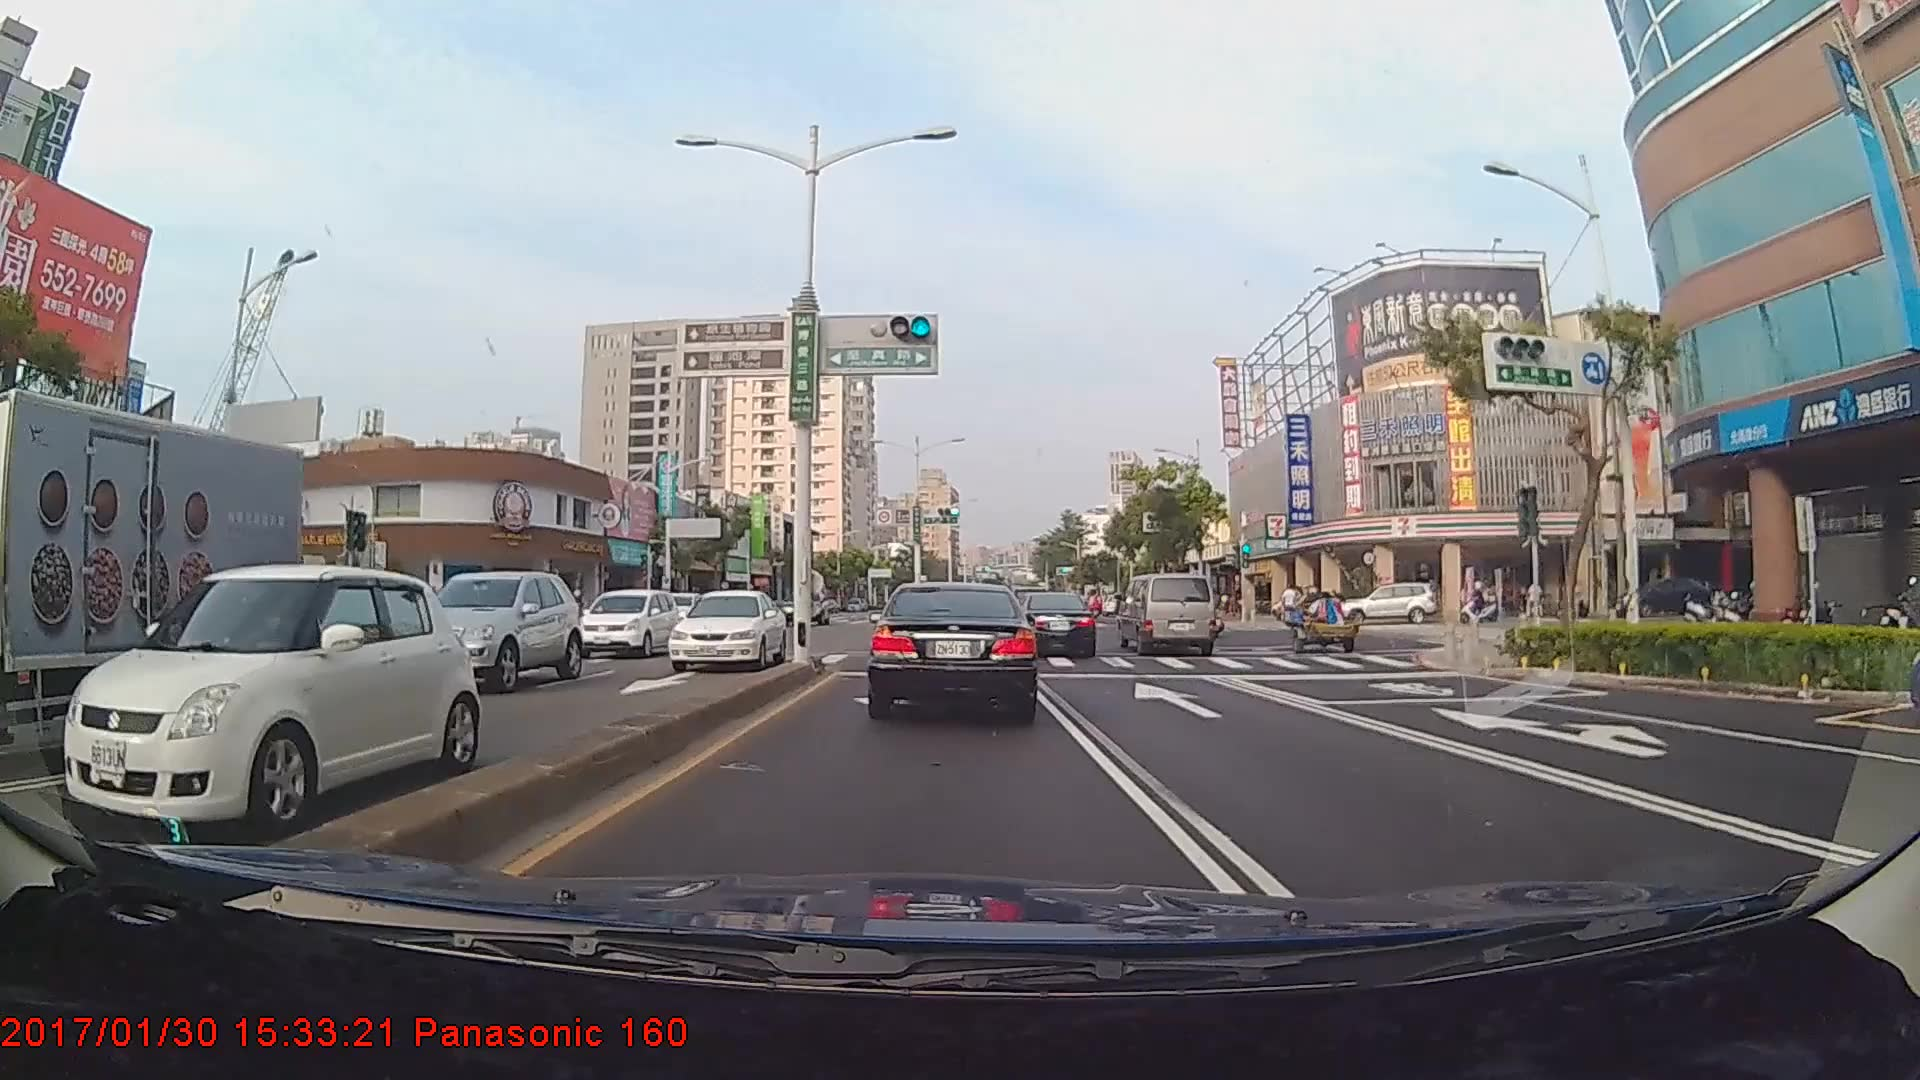vehicle: (47, 553, 450, 843), (0, 397, 294, 752), (377, 562, 574, 688), (868, 578, 1036, 723), (657, 583, 793, 673), (1120, 572, 1220, 657), (568, 583, 678, 658), (1014, 593, 1097, 658), (1337, 579, 1437, 622)
